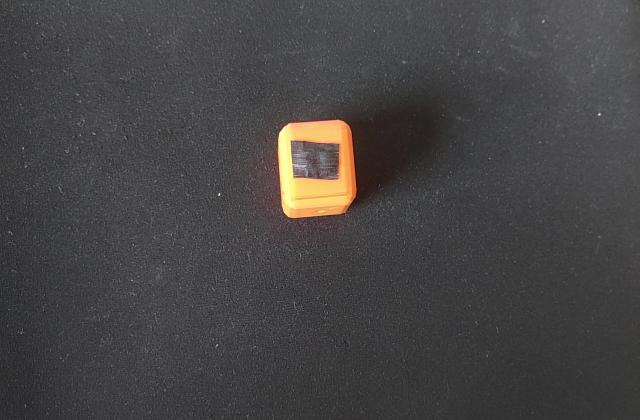black: (284, 136, 346, 186)
sticker: (272, 116, 360, 224)
